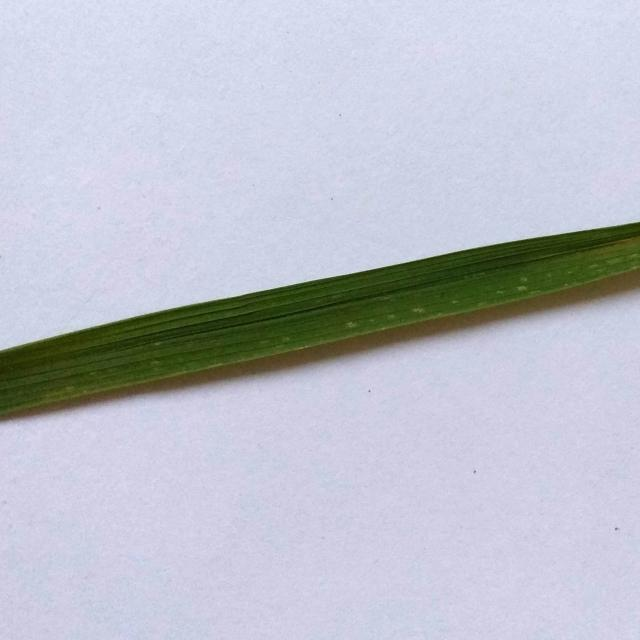Rice_Healthy: (0, 223, 640, 415)
